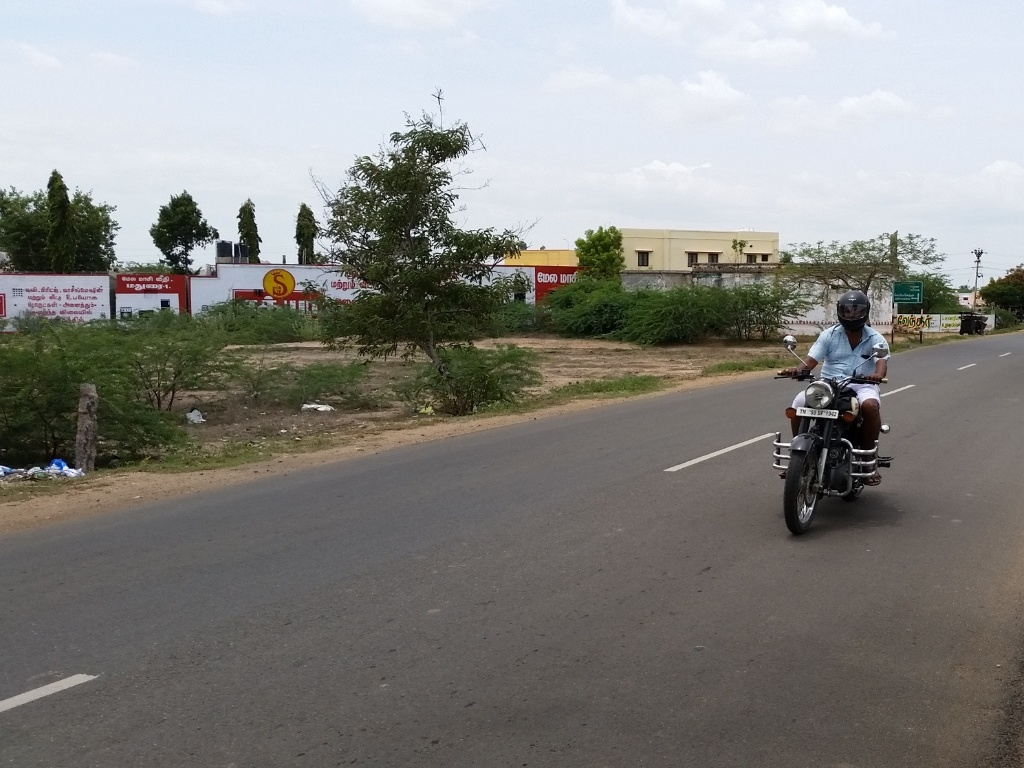biker: (761, 269, 920, 547)
helmet: (831, 281, 878, 342)
